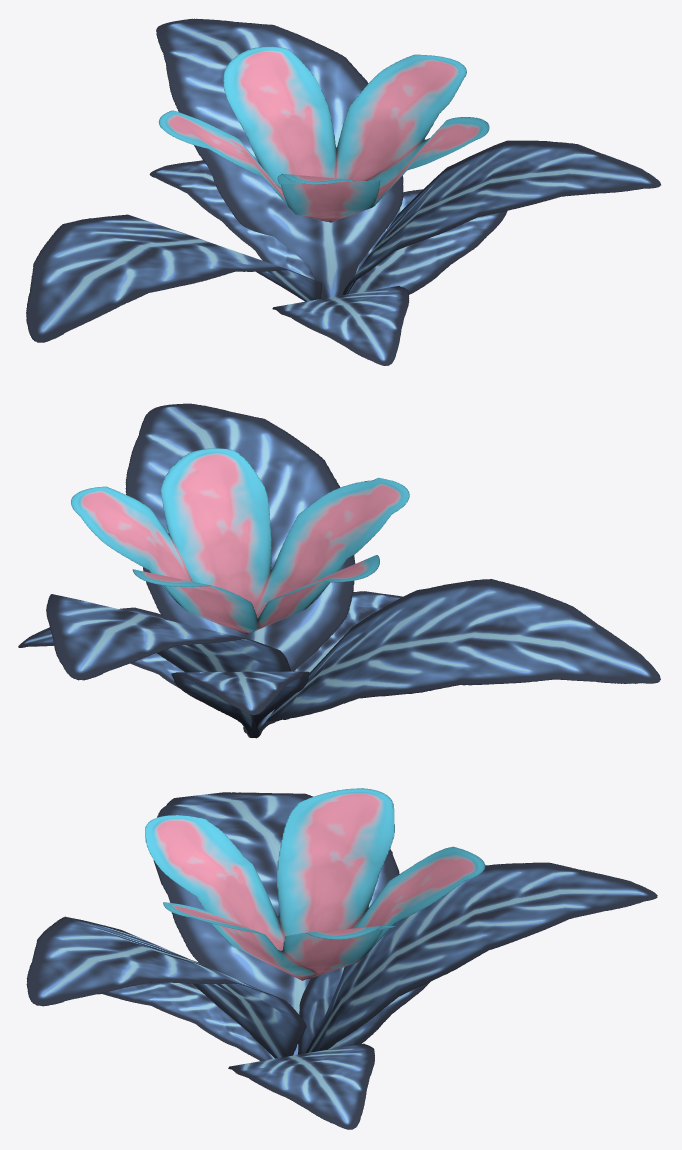
File: MarshFlower_a01.fbx
3 views of the same model, one above another, from view 1: azimuth 30°, elevation 25°; view 2: azimuth 150°, elevation 25°; view 3: azimuth 270°, elevation 25° (orthographic). The views are drawn at different scales.
Parts seen in each view (by area): view 1: Flower_a01; view 2: Flower_a01; view 3: Flower_a01.
Boxes of the visible parts, box(x1,y1,x2,y2) form: Flower_a01: box(26, 18, 660, 365); Flower_a01: box(18, 403, 660, 738); Flower_a01: box(26, 788, 657, 1129).
Size of the model in its own units: 326 by 118 by 299.
